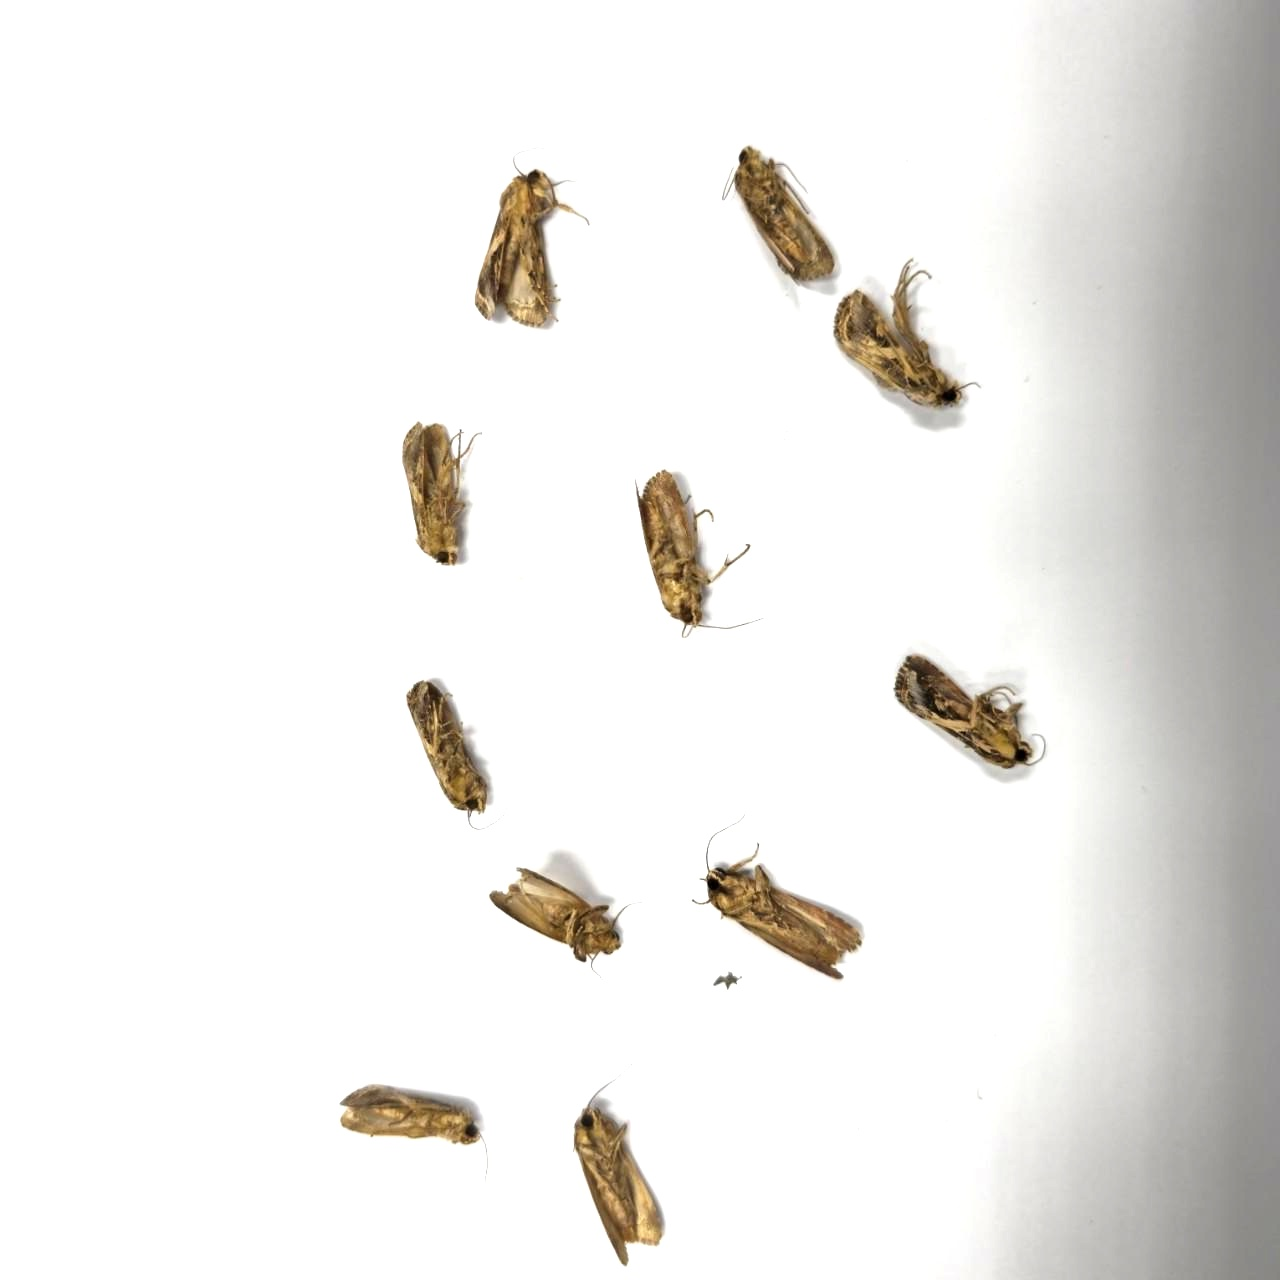Spodoptera litura: (689, 810, 862, 980), (835, 257, 983, 409), (635, 468, 764, 639), (474, 147, 592, 329), (572, 1055, 663, 1267), (489, 867, 649, 983), (339, 1084, 489, 1203), (893, 654, 1046, 769), (406, 679, 511, 830), (721, 144, 836, 282), (401, 418, 483, 567)
